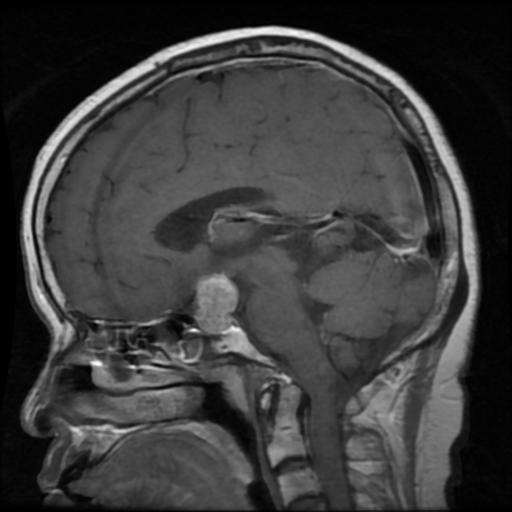Pituirity_tumour: (196, 271, 236, 330)
